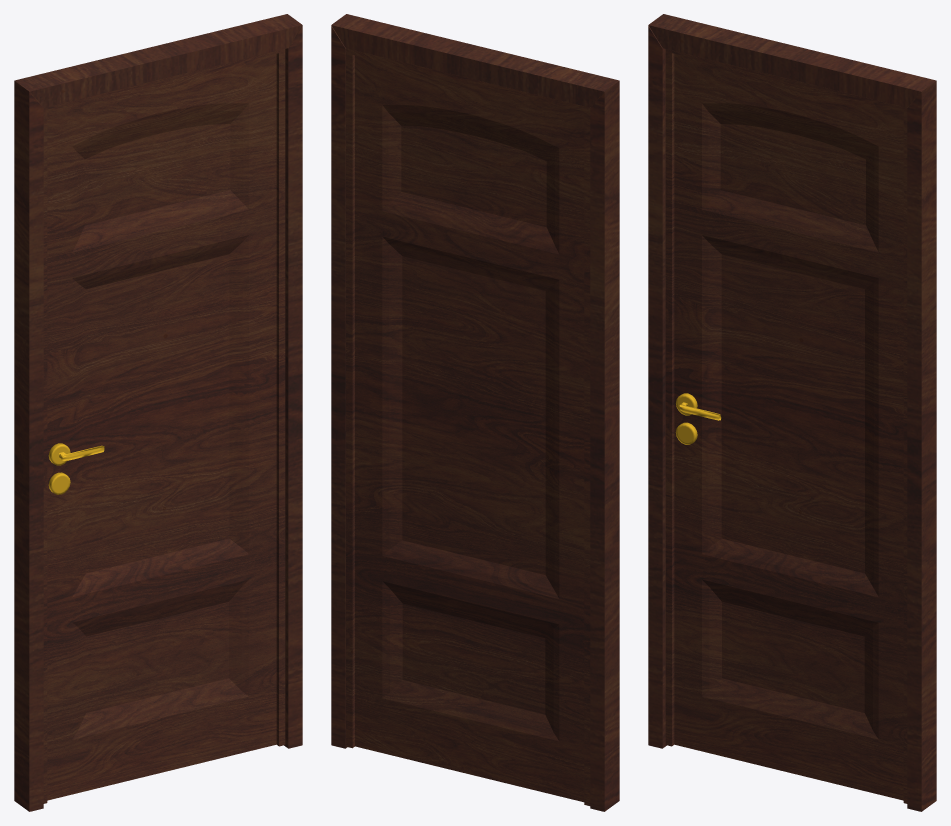
File: PUERTA13_ARIZONA.glb
3 views of the same model, side by side, from view 1: azimuth 30°, elevation 25°; view 2: azimuth 150°, elevation 25°; view 3: azimuth 330°, elevation 25° (orthographic).
Parts seen in each view (by area): view 1: PUERTA13_ARIZONA, Puerta13_Marco, Puerta13_Cerradura; view 2: PUERTA13_ARIZONA, Puerta13_Marco; view 3: PUERTA13_ARIZONA, Puerta13_Marco, Puerta13_Cerradura.
Part boxes in pixels (bbox=[...]): PUERTA13_ARIZONA: bbox=[43, 49, 285, 803]; Puerta13_Marco: bbox=[14, 14, 302, 811]; Puerta13_Cerradura: bbox=[48, 443, 104, 494]; PUERTA13_ARIZONA: bbox=[346, 48, 590, 805]; Puerta13_Marco: bbox=[331, 14, 619, 811]; PUERTA13_ARIZONA: bbox=[665, 49, 907, 803]; Puerta13_Marco: bbox=[648, 14, 936, 811]; Puerta13_Cerradura: bbox=[675, 393, 721, 444].
Bounding box in the file's own units: 769 × 1936 × 85.
3 materials, 2 textured.
